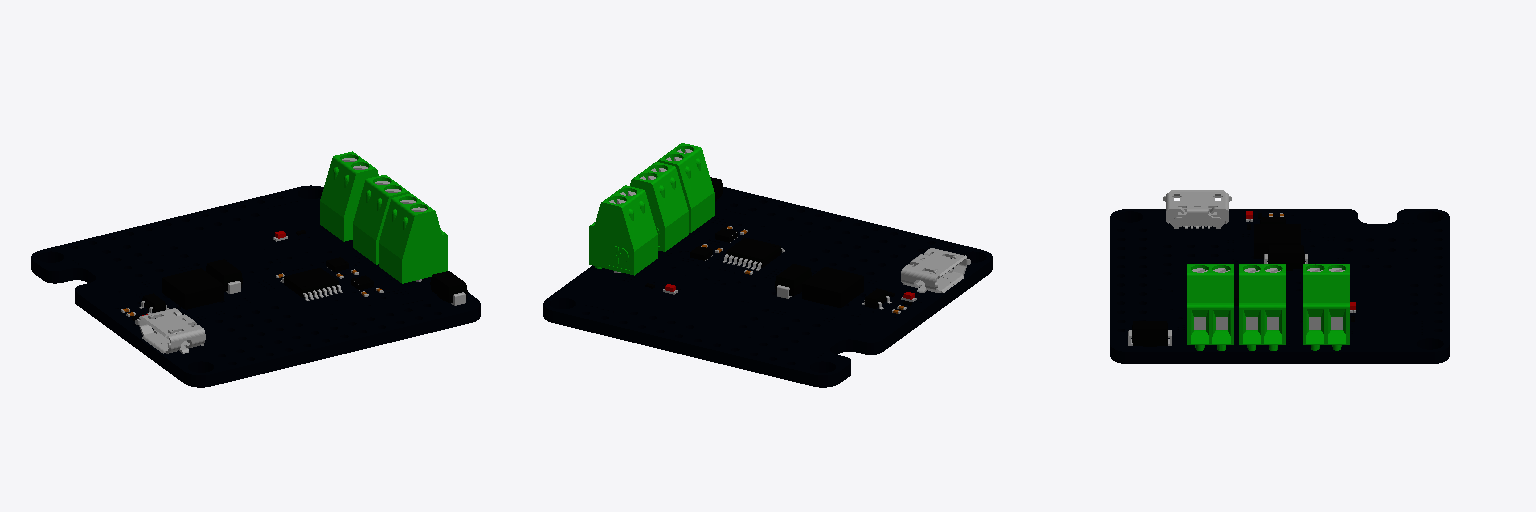
Rendered from neoBoard.obj.
3 views of the same model, side by side, from view 1: azimuth 30°, elevation 25°; view 2: azimuth 150°, elevation 25°; view 3: azimuth 270°, elevation 25° (orthographic).
Parts seen in each view (by area): view 1: Board, Components; view 2: Board, Components; view 3: Board, Components.
Boxes of the visible parts, x1=… form: Board: x1=31, y1=185, x2=480, y2=387; Components: x1=121, y1=151, x2=467, y2=353; Board: x1=543, y1=187, x2=992, y2=387; Components: x1=589, y1=143, x2=970, y2=313; Board: x1=1110, y1=209, x2=1449, y2=363; Components: x1=1128, y1=190, x2=1355, y2=350.
Bounding box in the file's own units: 4 × 1.23 × 4.